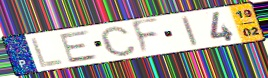4: (209, 10, 237, 43)
C: (98, 25, 139, 58)
E: (58, 29, 101, 65)
F: (130, 17, 162, 57)
I: (180, 14, 201, 48)
L: (29, 35, 66, 69)
